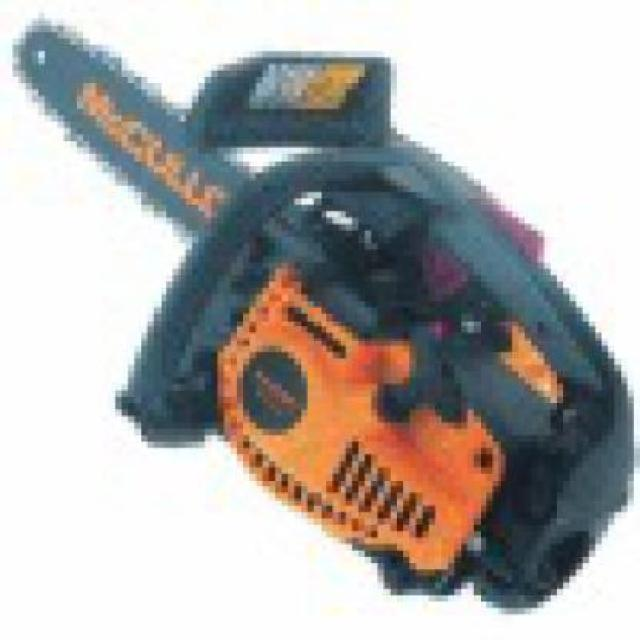Chainsaw: (9, 6, 634, 620)
